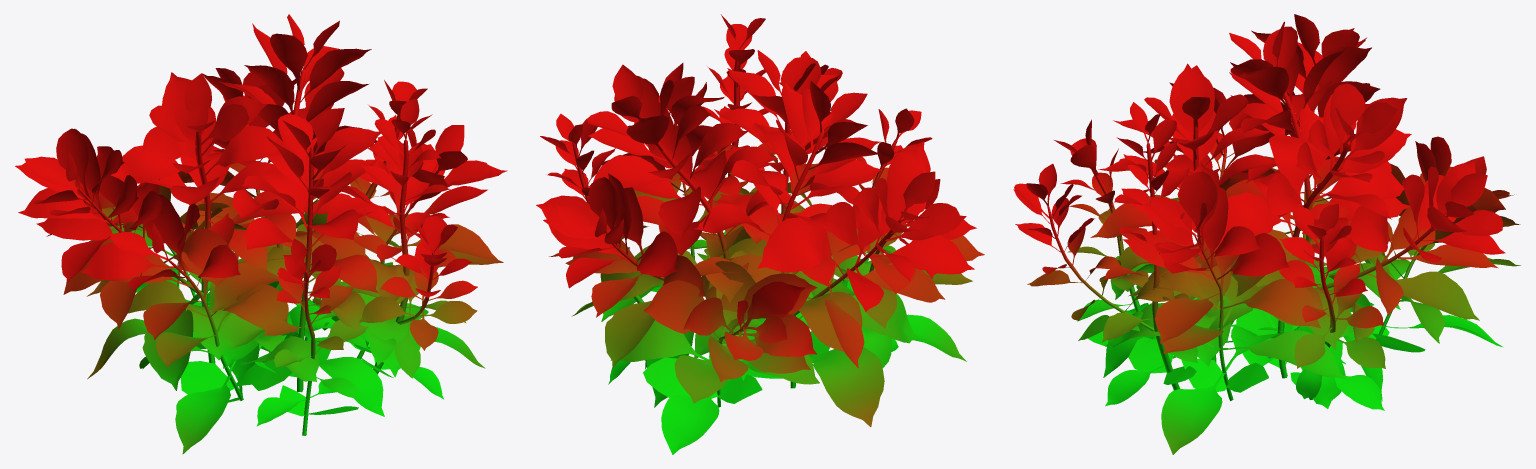
The model's file is Var7_LOD1.fbx.
3 views of the same model, side by side, from view 1: azimuth 30°, elevation 25°; view 2: azimuth 150°, elevation 25°; view 3: azimuth 270°, elevation 25° (orthographic). The views are drawn at different scales.
Visible parts, largest first — view 1: _85dz_Var7_LOD1; view 2: _85dz_Var7_LOD1; view 3: _85dz_Var7_LOD1.
Part boxes in pixels (bbox=[...]): _85dz_Var7_LOD1: bbox=[15, 14, 507, 454]; _85dz_Var7_LOD1: bbox=[536, 14, 984, 454]; _85dz_Var7_LOD1: bbox=[1013, 14, 1520, 454].
Bounding box in the file's own units: 94.31 × 70.58 × 99.46.
